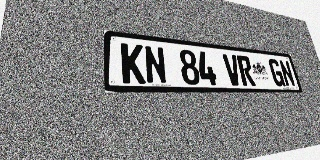4: (196, 51, 218, 85)
8: (178, 49, 201, 85)
G: (268, 58, 286, 86)
K: (121, 43, 146, 84)
N: (143, 45, 168, 84), (278, 60, 296, 87)
R: (236, 55, 256, 86)
V: (222, 54, 243, 86)
